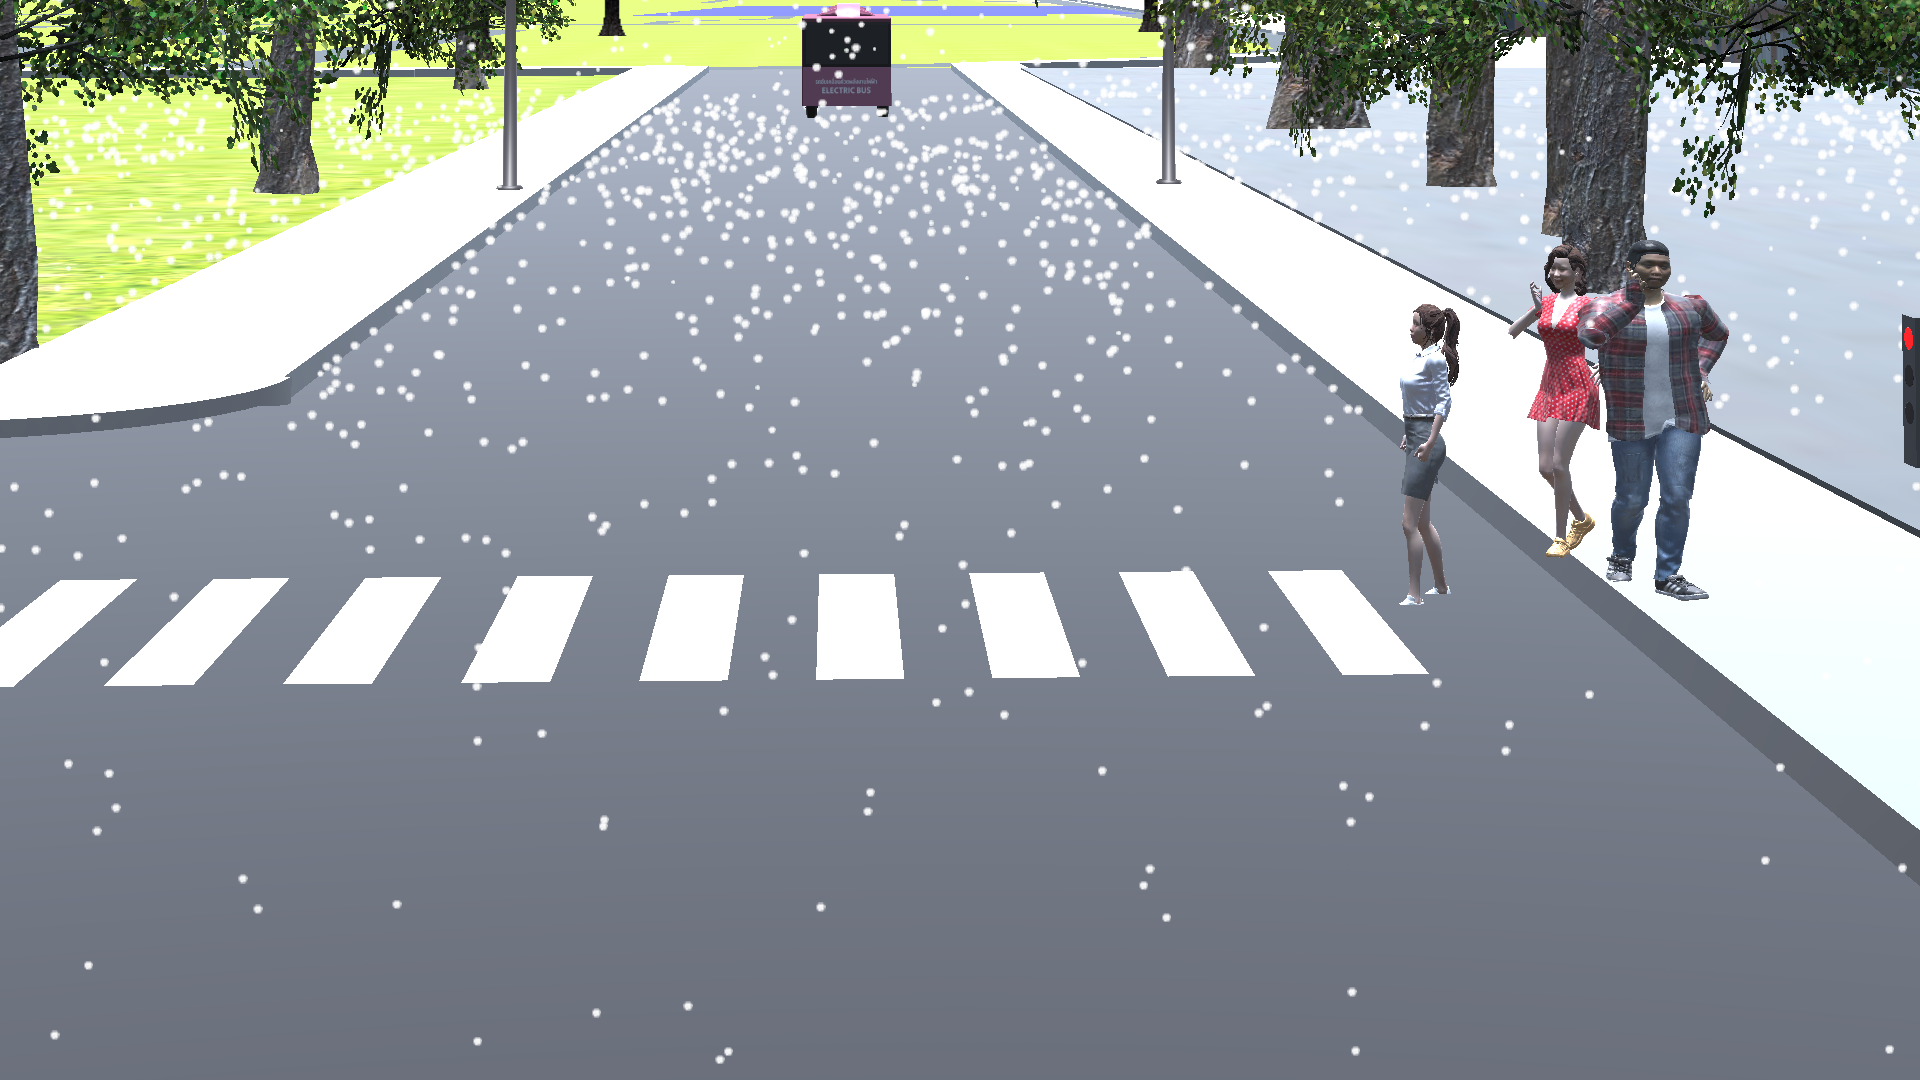pedestrian: (1610, 234, 1734, 622), (1503, 239, 1607, 563), (1383, 289, 1473, 620)
